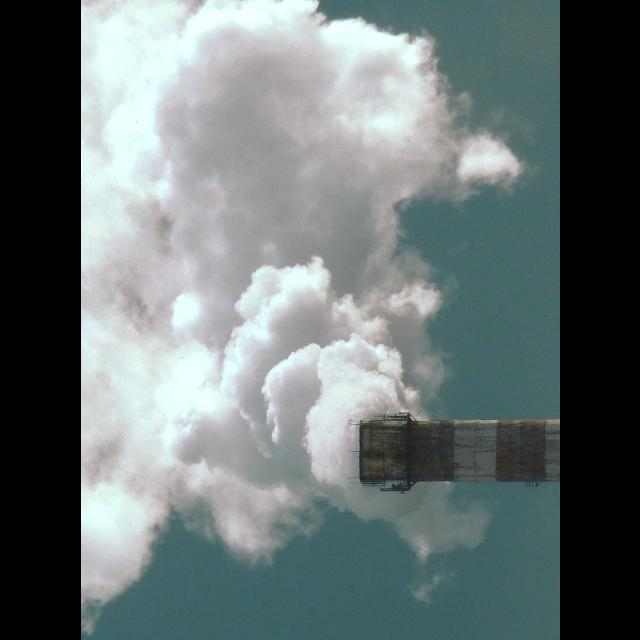smoke: (80, 0, 520, 625)
